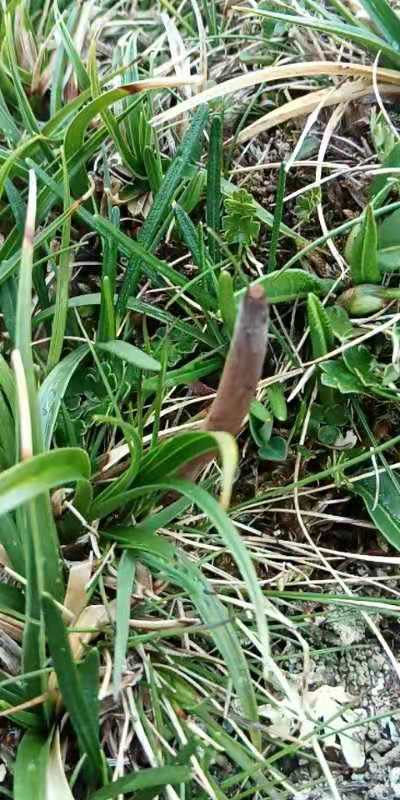Chongcao: (205, 283, 269, 435)
